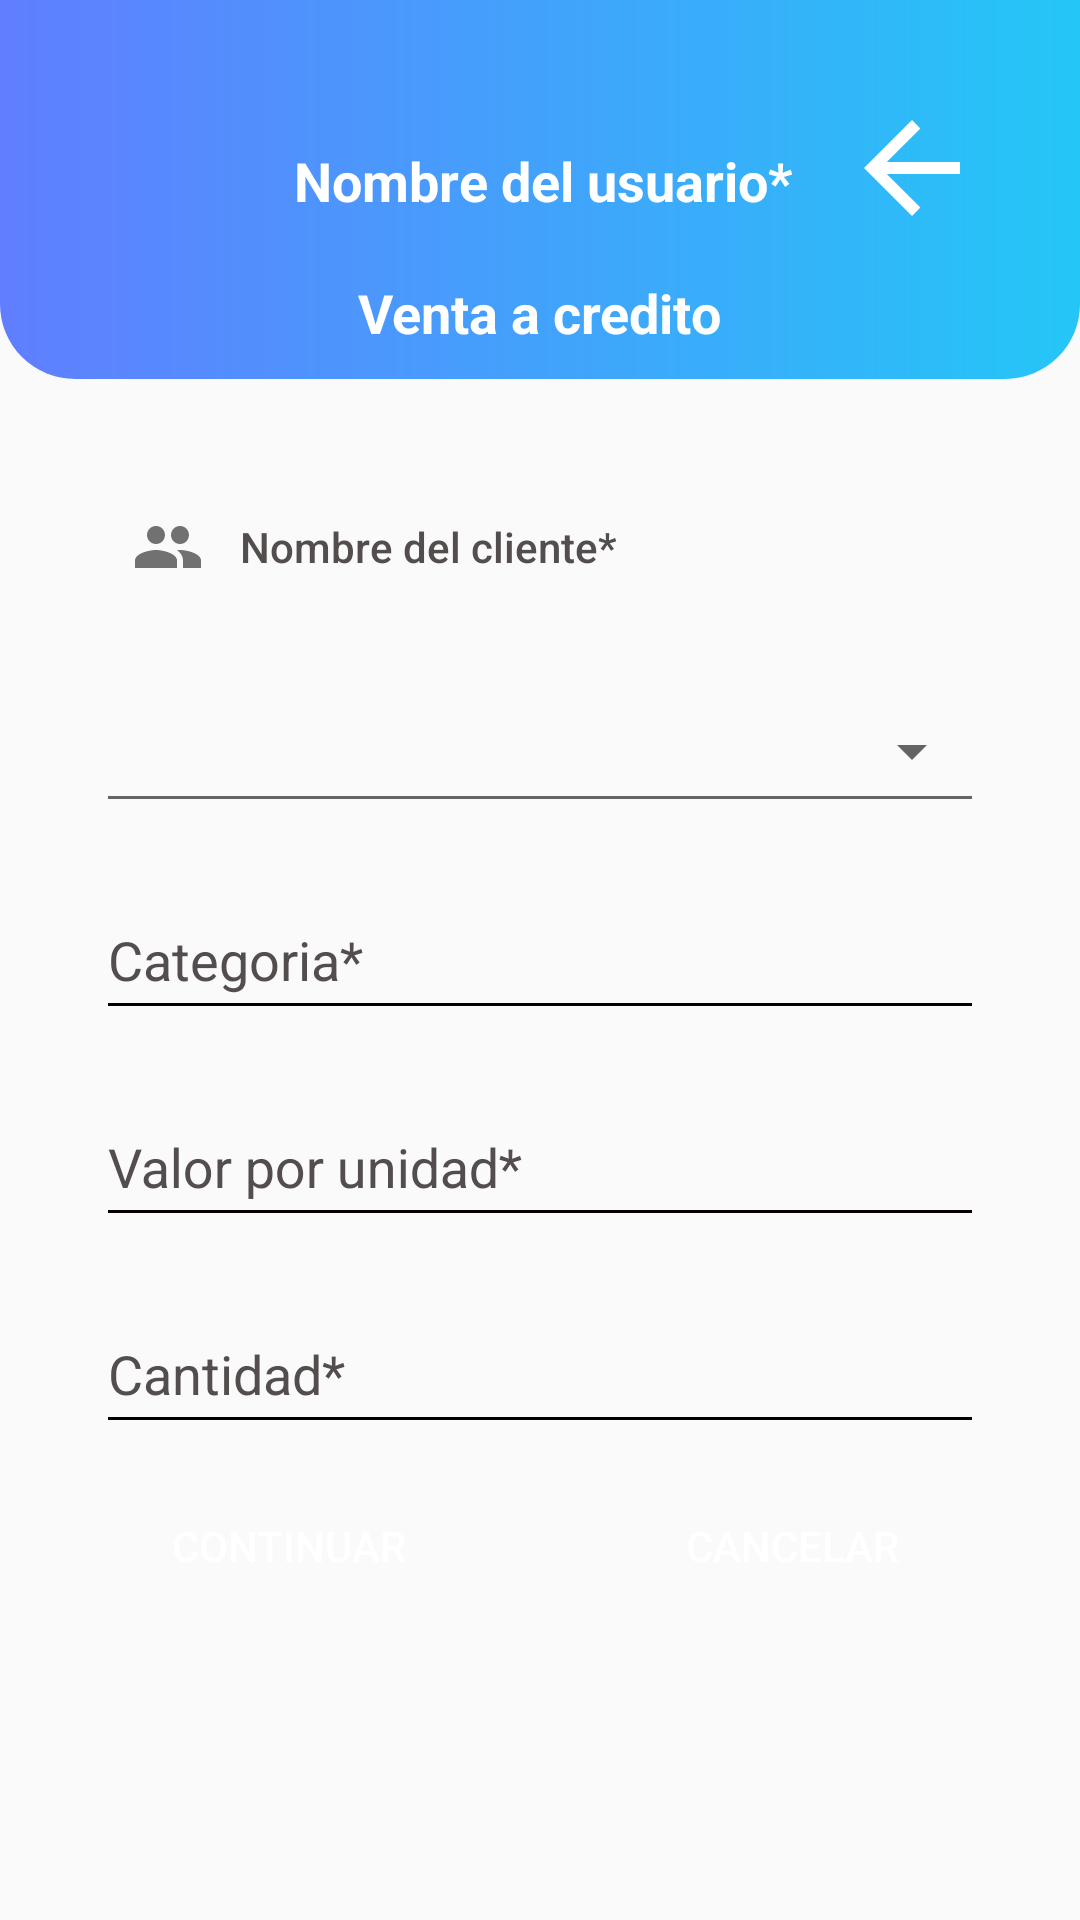

Screen size 1080*1920. Icon name, then its center in pixels as point (x, y):
Boton que al presionar cuelve a la pantalla anterior: point (912, 168)
